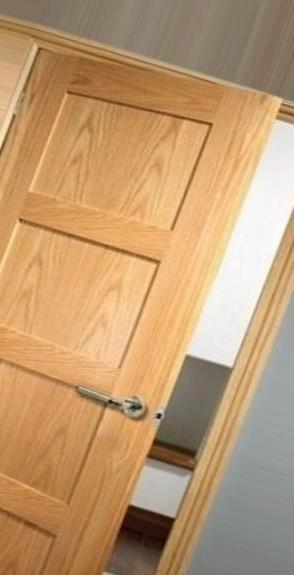door: (0, 48, 280, 575)
